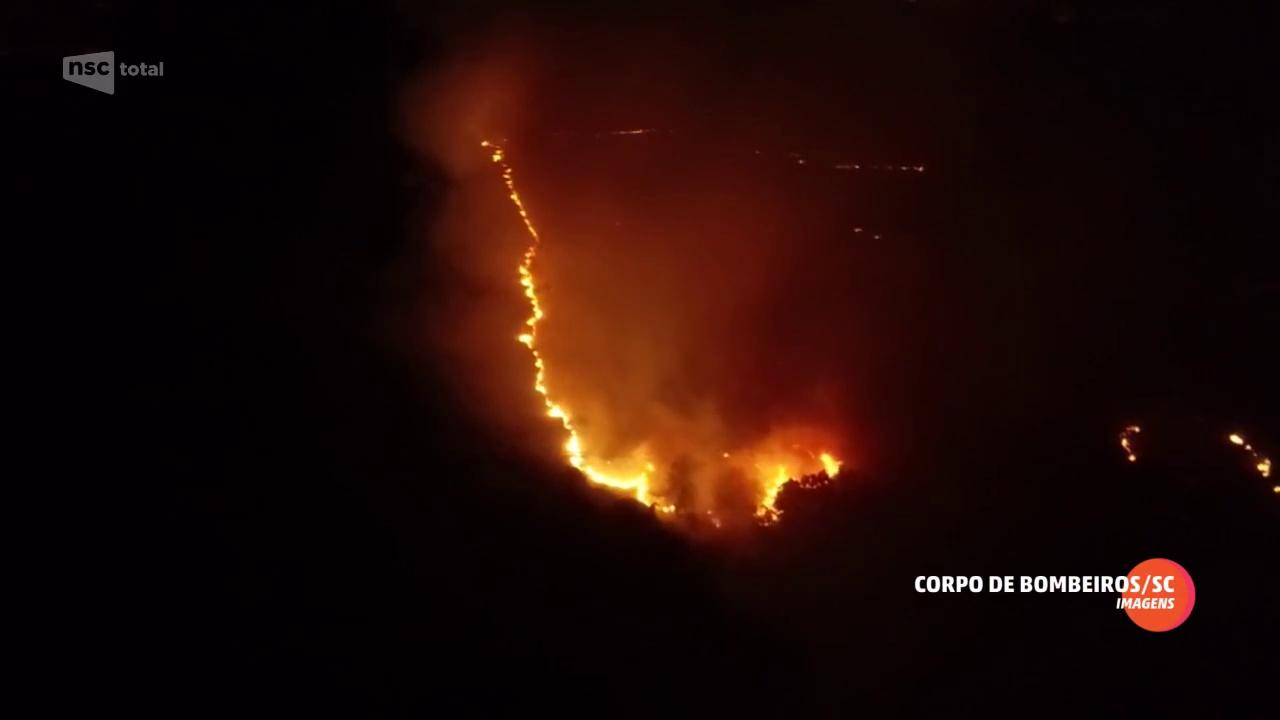fire: (488, 141, 680, 515), (742, 460, 790, 513), (1233, 435, 1271, 478), (820, 448, 845, 480)
